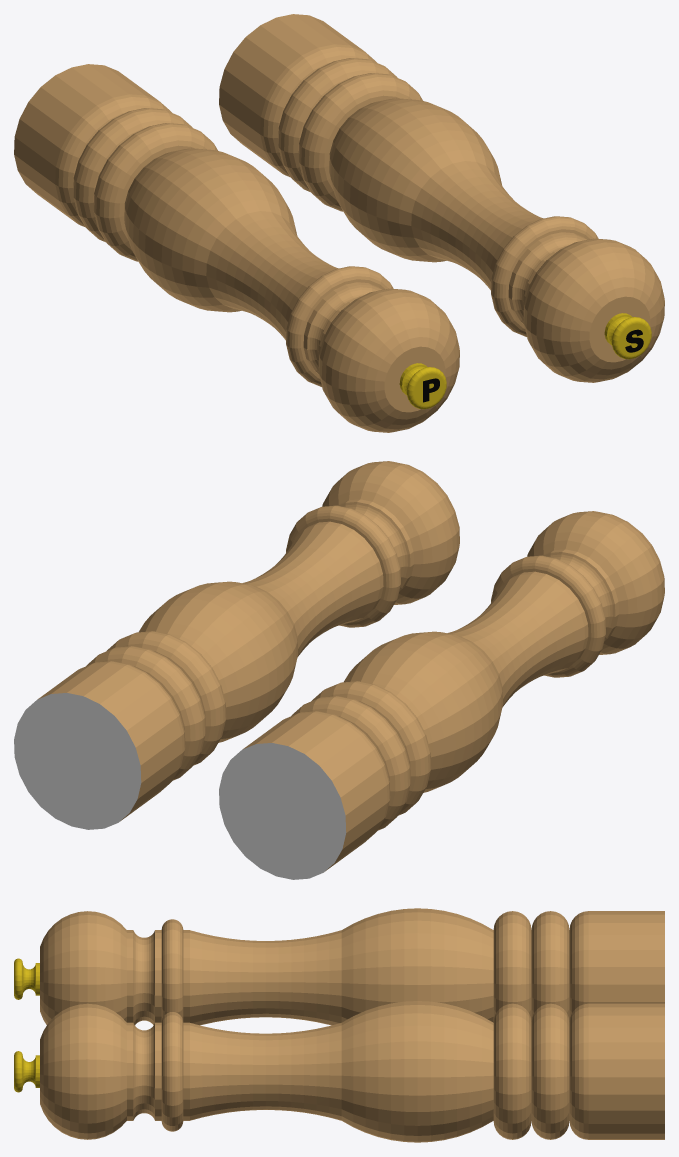
3 renders of one model, top to bottom at view 1: azimuth 30°, elevation 25°; view 2: azimuth 150°, elevation 25°; view 3: azimuth 270°, elevation 25°, orthographic. The views are drawn at different scales.
Parts seen in each view (by area): view 1: pepper amp salt mill peugeot; view 2: pepper amp salt mill peugeot; view 3: pepper amp salt mill peugeot.
Boxes of the visible parts, left/top/right/bottom form: pepper amp salt mill peugeot: left=14, top=14, right=664, bottom=432; pepper amp salt mill peugeot: left=14, top=461, right=664, bottom=879; pepper amp salt mill peugeot: left=14, top=908, right=664, bottom=1142.
Size of the model in its own units: 6.54 by 2.57 by 11.81.
